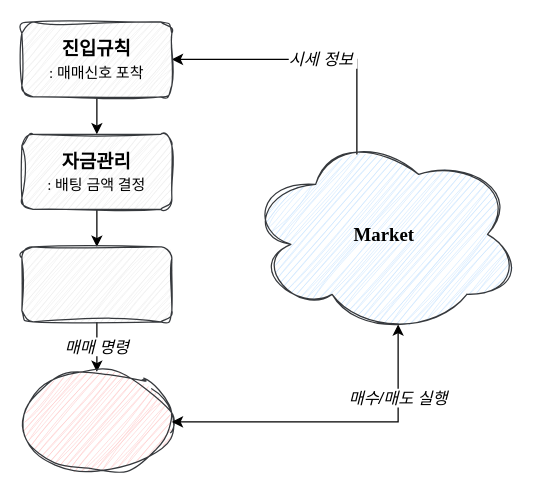
The diagram is 544 pixels wide and 494 high, and some of its shapes have lost their labels. Here are the shapes that lost their labels. From the top down, the centre of each, then its label:
(x=96, y=284): 리스크 관리 : 손절/익절 기준 설정
(x=96, y=421): 계좌
